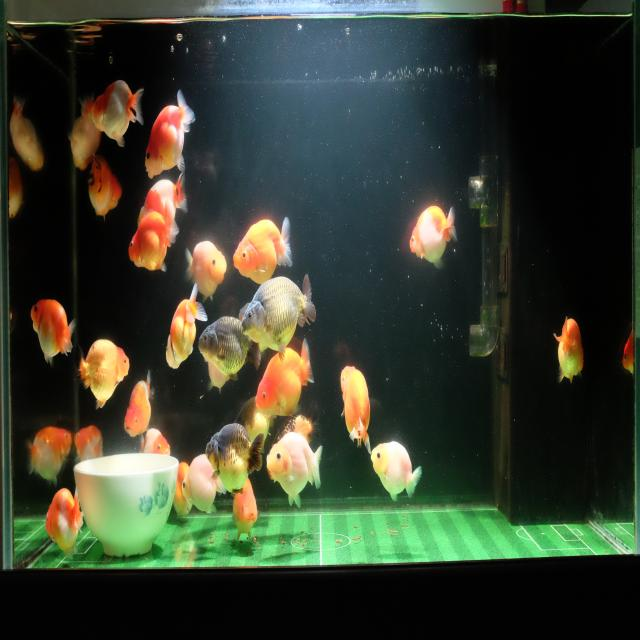Goldfish: (240, 272, 317, 363), (144, 88, 198, 182), (254, 337, 315, 419), (76, 331, 130, 418), (197, 312, 262, 384), (265, 431, 324, 510), (232, 214, 294, 288), (205, 421, 264, 497), (164, 283, 208, 373), (127, 201, 180, 274), (90, 78, 145, 148), (25, 293, 77, 366), (408, 200, 459, 272), (8, 91, 50, 178), (137, 168, 190, 234), (371, 438, 423, 505), (338, 362, 372, 458), (44, 487, 85, 564), (181, 451, 228, 517), (25, 421, 72, 486), (183, 237, 228, 303), (68, 92, 102, 178), (85, 152, 125, 223), (121, 362, 156, 442), (553, 314, 585, 388), (231, 477, 259, 549), (135, 422, 170, 460), (74, 423, 104, 466)
